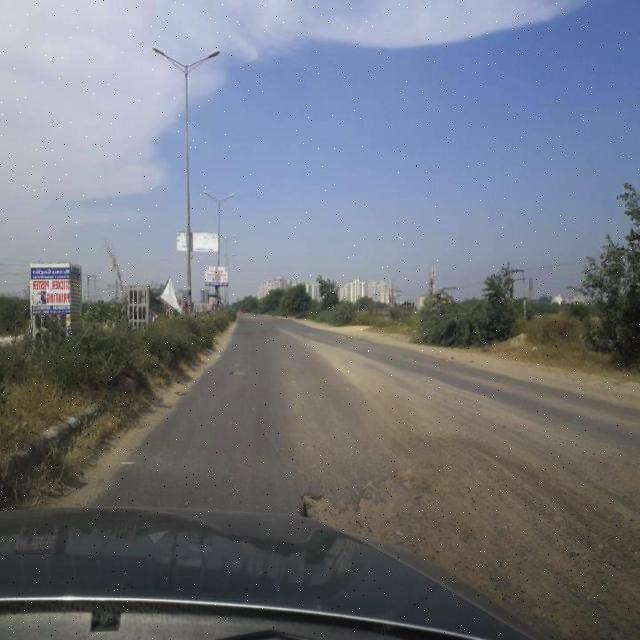D40: (283, 403, 638, 639), (230, 360, 250, 382)
